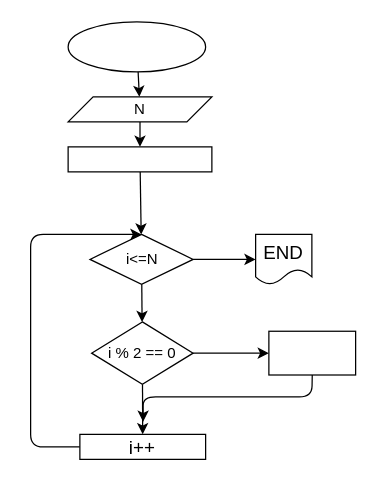
Image size: 378x481. Some labels were removed from this diagram. Each missing label, with the centre of its shape:
"i =1" belongs at point (139, 159).
"Print i" belongs at point (312, 352).
"start" belongs at point (136, 46).
